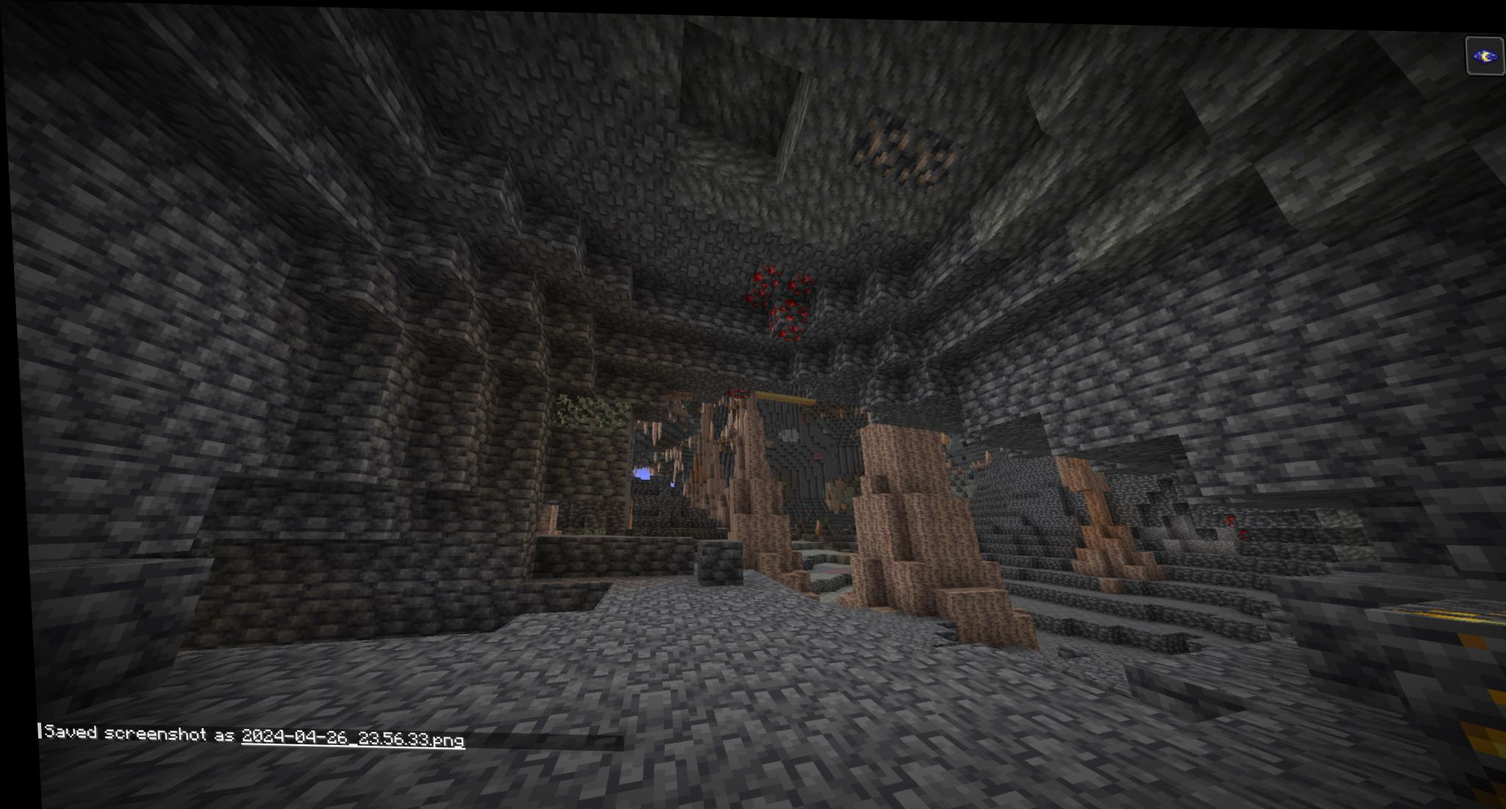gold ore: (1376, 579, 1506, 790)
iron ore: (851, 109, 963, 188)
redstone ore: (747, 262, 813, 334), (725, 377, 750, 402)
